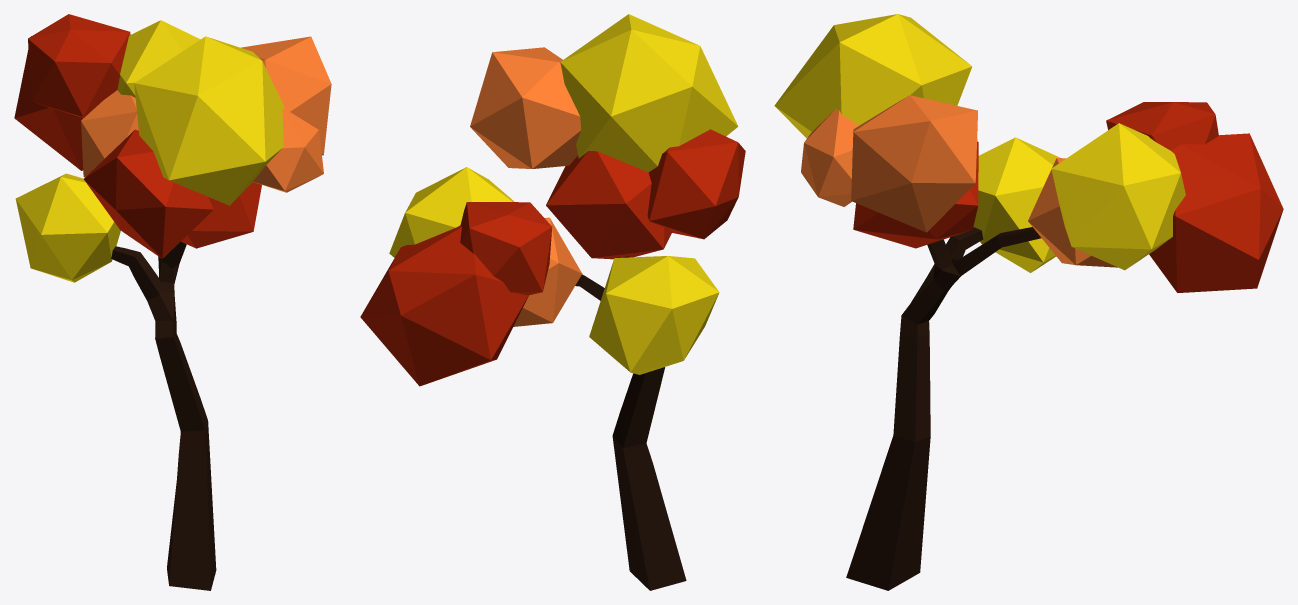
Rendered from sonbahar-agac.fbx.
The picture shows the model from 3 angles, left to right: view 1: azimuth 30°, elevation 25°; view 2: azimuth 150°, elevation 25°; view 3: azimuth 270°, elevation 25°; orthographic projection. The views are drawn at different scales.
Visible parts, largest first — view 1: leaf_4.005, tree_4, leaf_4.006, leaf_4.007, leaf_4.001, leaf_4.003, leaf_4.004, leaf_4, leaf_4.002, leaf_4.009, leaf_4.008; view 2: leaf_4.005, leaf_4, leaf_4.007, leaf_4.003, tree_4, leaf_4.008, leaf_4.006, leaf_4.001, leaf_4.002, leaf_4.009; view 3: tree_4, leaf_4, leaf_4.005, leaf_4.002, leaf_4.003, leaf_4.007, leaf_4.004, leaf_4.001, leaf_4.008, leaf_4.009.
Boxes of the visible parts, x1,y1,x2,y2 form: leaf_4.005: (134, 36, 285, 205); tree_4: (111, 241, 216, 590); leaf_4.006: (84, 129, 213, 258); leaf_4.007: (15, 173, 120, 282); leaf_4.001: (28, 14, 130, 117); leaf_4.003: (241, 36, 331, 155); leaf_4.004: (253, 108, 323, 192); leaf_4: (14, 36, 83, 170); leaf_4.002: (117, 20, 200, 97); leaf_4.009: (81, 90, 138, 177); leaf_4.008: (181, 182, 261, 248); leaf_4.005: (560, 14, 738, 172); leaf_4: (360, 225, 528, 386); leaf_4.007: (589, 256, 719, 374); leaf_4.003: (470, 47, 581, 168); tree_4: (575, 256, 686, 590); leaf_4.008: (546, 151, 672, 259); leaf_4.006: (647, 129, 745, 239); leaf_4.001: (460, 202, 552, 295); leaf_4.002: (389, 167, 514, 257); leaf_4.009: (513, 217, 582, 326); tree_4: (846, 227, 1041, 590); leaf_4: (1149, 133, 1283, 292); leaf_4.005: (774, 14, 972, 138); leaf_4.002: (1051, 123, 1185, 270); leaf_4.003: (851, 95, 977, 232); leaf_4.007: (973, 137, 1059, 272); leaf_4.004: (801, 109, 858, 206); leaf_4.001: (1106, 102, 1218, 150); leaf_4.008: (853, 141, 978, 248); leaf_4.009: (1028, 158, 1117, 267).
Size of the model in its own units: 57.81 by 116 by 93.73.
